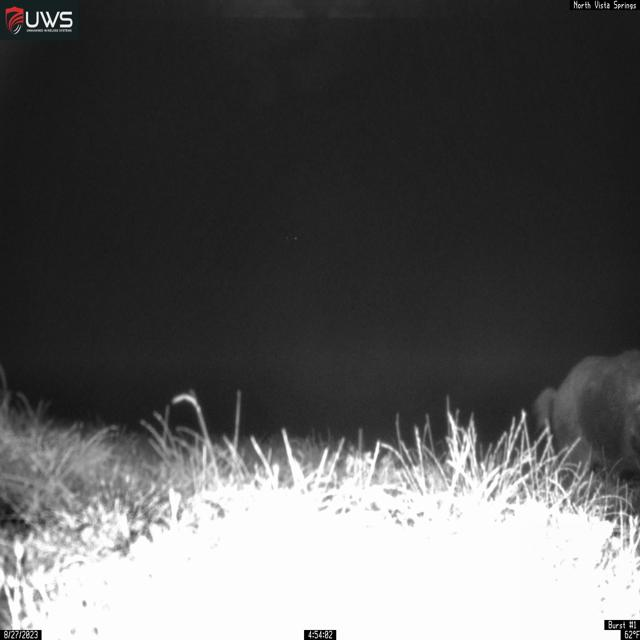pig: (531, 345, 640, 504)
